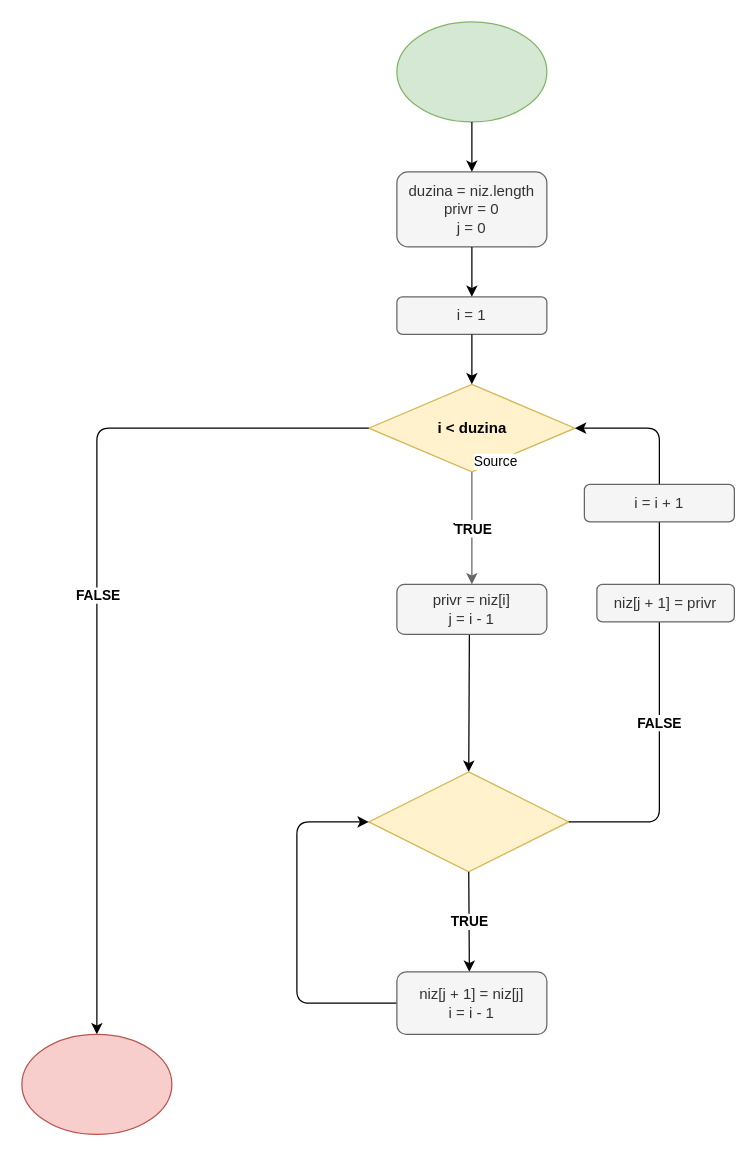
Image size: 756x1156. Some labels were removed from this diagram. The centre of each missing label's shape, as x and y in pixels:
"END" belongs at point (96, 1083).
"i >= 0 and niz[j] > privr" belongs at point (468, 821).
"START" belongs at point (471, 71).
